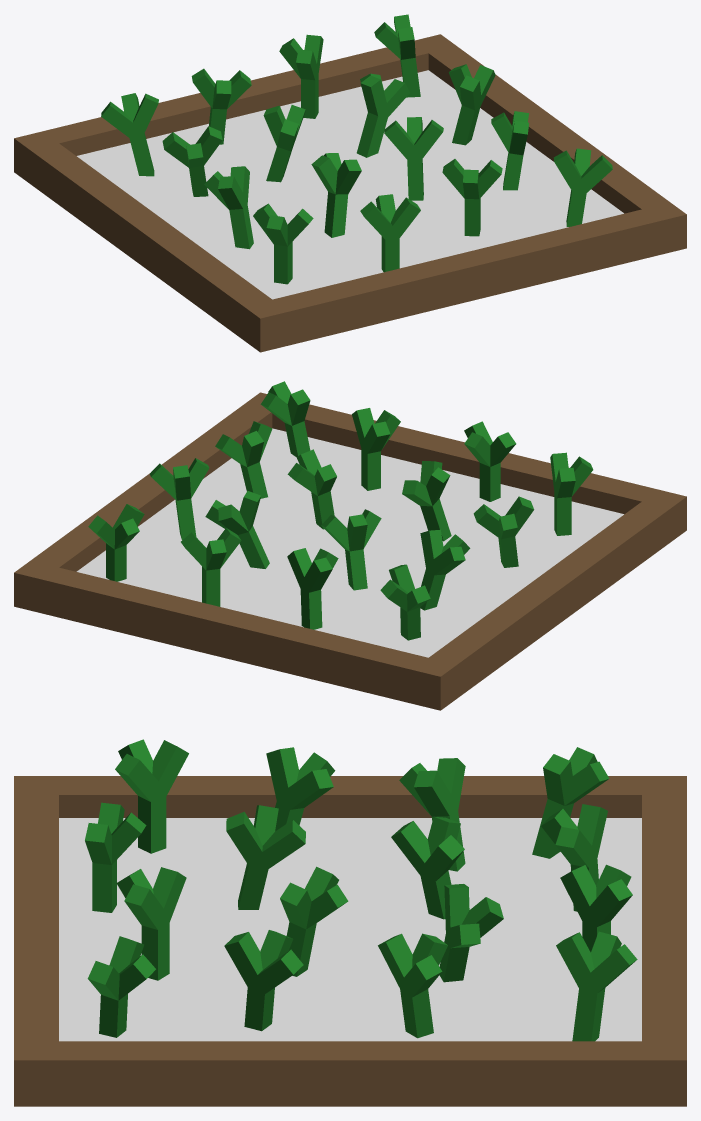
3 renders of one model, top to bottom at view 1: azimuth 30°, elevation 25°; view 2: azimuth 150°, elevation 25°; view 3: azimuth 270°, elevation 25°, orthographic. The views are drawn at different scales.
Parts seen in each view (by area): view 1: Wheat1.001; view 2: Wheat1.001; view 3: Wheat1.001.
Boxes of the visible parts, x1,y1,x2,y2 form: Wheat1.001: [14, 14, 686, 352]; Wheat1.001: [14, 381, 686, 710]; Wheat1.001: [14, 739, 686, 1106].
Size of the model in its own units: 440 by 88.94 by 440.
